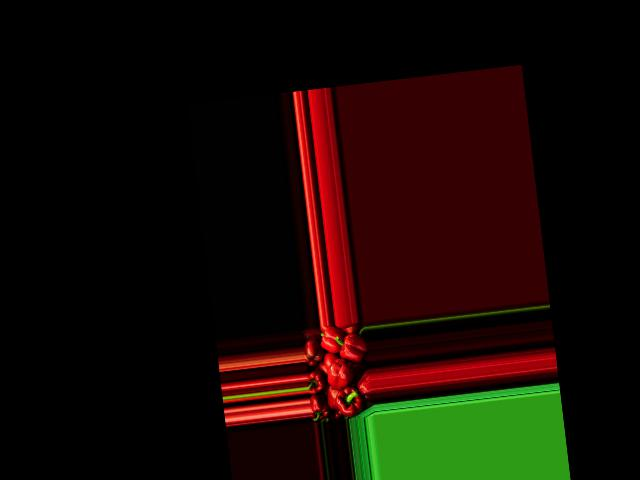bell_pepper: (309, 394, 330, 421)
